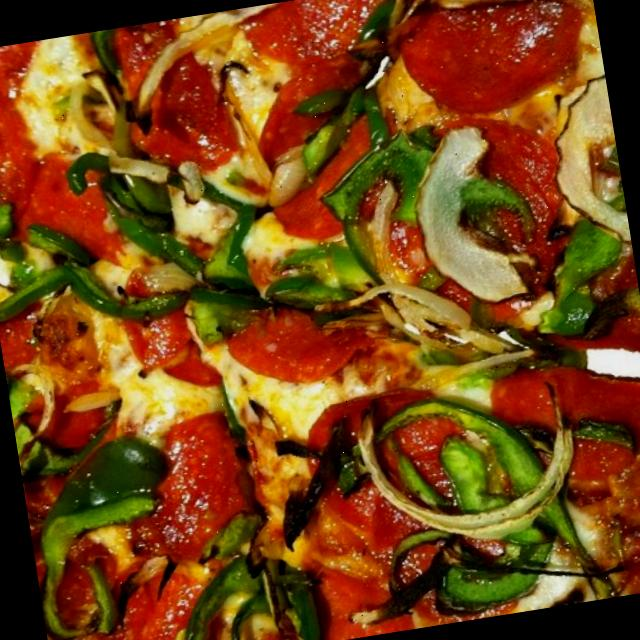Bell Pepper: (17, 433, 192, 640), (369, 485, 606, 633), (353, 376, 552, 524), (162, 171, 283, 355), (64, 131, 190, 290), (310, 121, 460, 237), (0, 246, 188, 336), (252, 235, 391, 337), (275, 68, 400, 177), (5, 372, 59, 512), (444, 170, 539, 248), (23, 213, 98, 284), (561, 408, 640, 466), (0, 157, 25, 262), (328, 443, 369, 496)
mushrooms: (342, 374, 594, 562), (402, 110, 534, 318), (327, 260, 517, 378), (116, 2, 292, 118), (536, 73, 632, 260), (412, 0, 601, 76)
pepperoni: (370, 104, 579, 346), (238, 40, 408, 255), (289, 388, 476, 576), (477, 317, 640, 525), (385, 0, 592, 126), (298, 534, 515, 640), (0, 298, 120, 487), (115, 406, 256, 564), (113, 12, 241, 183), (212, 277, 386, 393), (2, 148, 140, 289), (114, 256, 226, 406), (241, 0, 412, 78), (76, 553, 216, 640), (0, 41, 62, 223)
